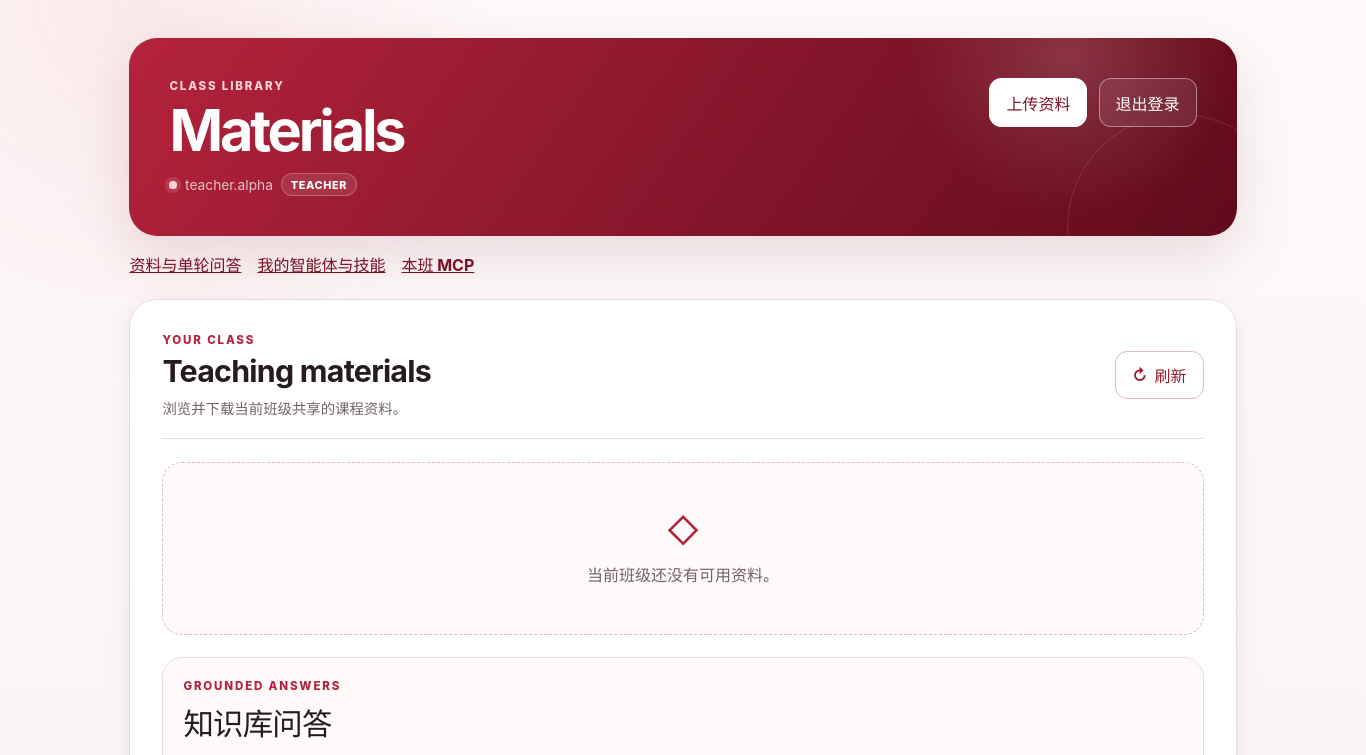
it: authentication flow › clears the local token on logout
This screenshot has width=1366, height=755.
Click the button "退出登录" at (1148, 103), box [1099, 78, 1197, 127]
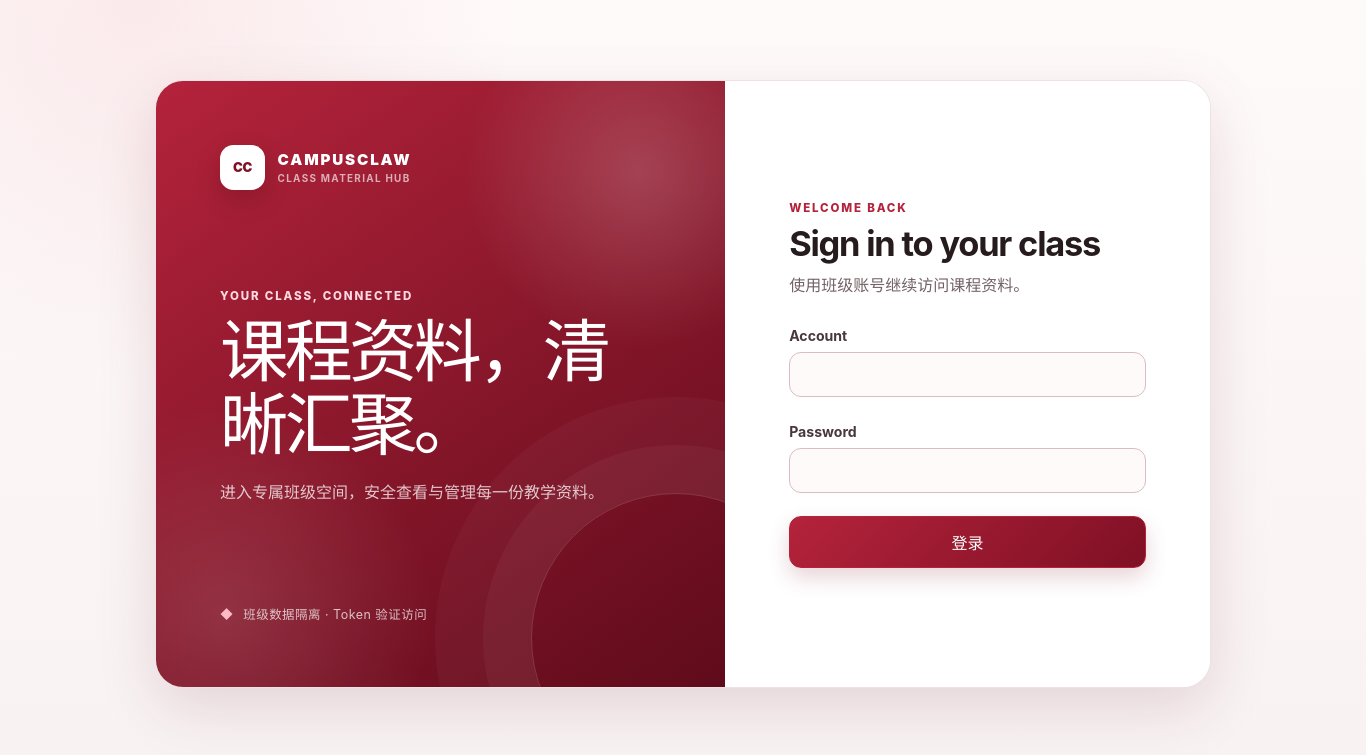
Now the heading "Sign in to your class" is shown, box [789, 223, 1146, 264]
